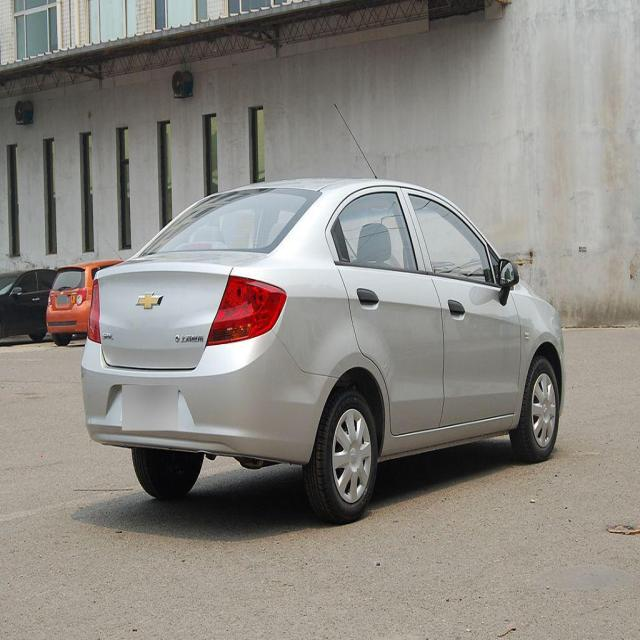back_glass: (139, 188, 321, 258)
back_left_side_light: (85, 278, 106, 345)
back_right_side_light: (204, 274, 288, 348)
door: (326, 180, 445, 446)
front_right_side_door: (400, 184, 522, 430)
front_right_side_mirror: (497, 257, 520, 304)
rear_bumper: (80, 328, 340, 467)
wheel: (307, 391, 377, 526), (512, 355, 559, 460), (131, 448, 203, 499)
